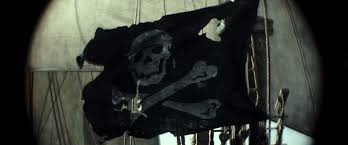Jolly Roger Flag: (81, 1, 272, 139)
